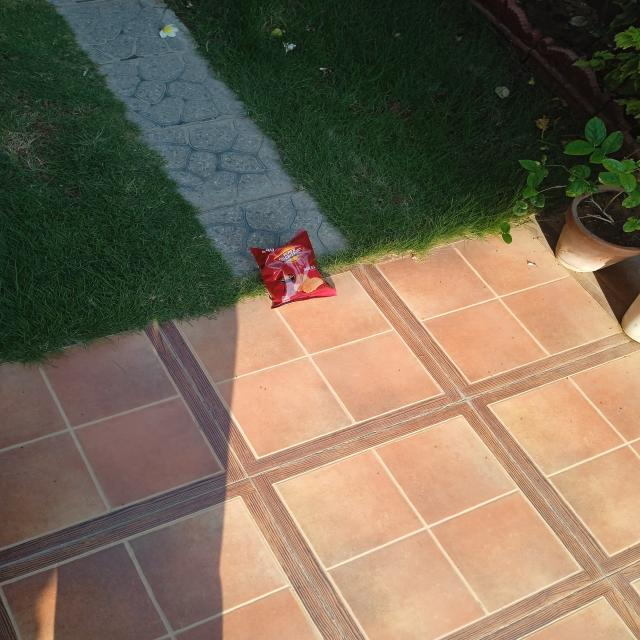Plastic: (252, 231, 336, 306)
